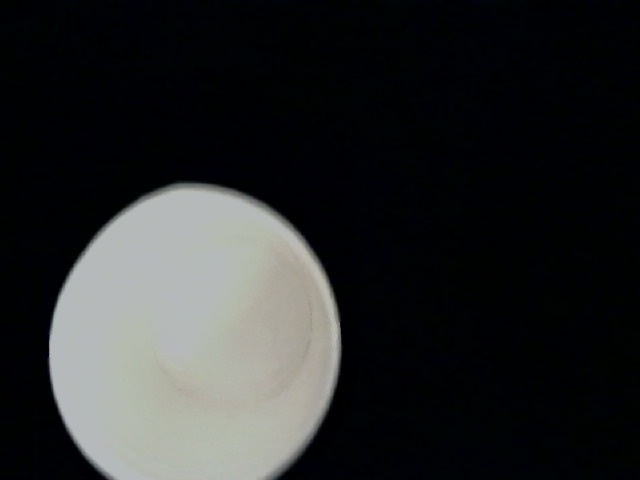KHSLJ: (75, 1, 352, 156)
